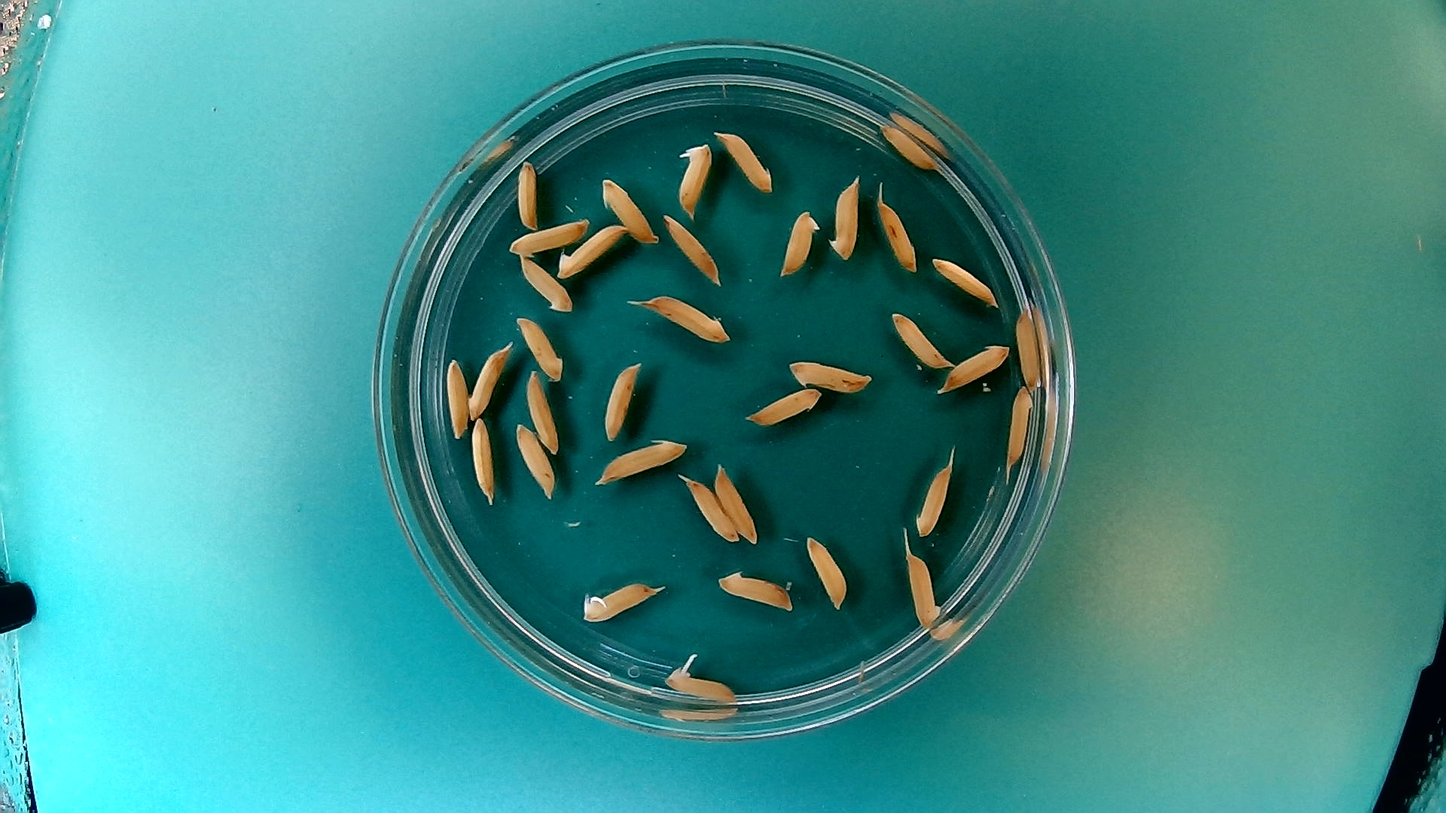no: (592, 436, 689, 486), (662, 209, 723, 287), (640, 294, 731, 345), (599, 174, 659, 247), (557, 219, 629, 279), (713, 126, 776, 194), (938, 340, 1013, 394), (684, 474, 740, 544), (600, 356, 645, 443), (891, 308, 952, 372), (467, 338, 514, 420), (712, 463, 760, 543), (929, 254, 1000, 306), (873, 195, 919, 275), (802, 533, 849, 611), (514, 313, 566, 383), (712, 568, 796, 611), (514, 419, 558, 501), (776, 206, 822, 282), (785, 357, 874, 396), (905, 547, 945, 632), (743, 385, 822, 428), (517, 253, 572, 313), (524, 366, 561, 455), (914, 460, 955, 540), (507, 218, 590, 257), (828, 174, 862, 266), (880, 122, 939, 172), (468, 413, 498, 506), (1014, 307, 1045, 394), (1002, 384, 1033, 471), (444, 355, 470, 441), (514, 156, 538, 232)
yes: (579, 583, 662, 626), (674, 138, 713, 221), (662, 668, 741, 705)
